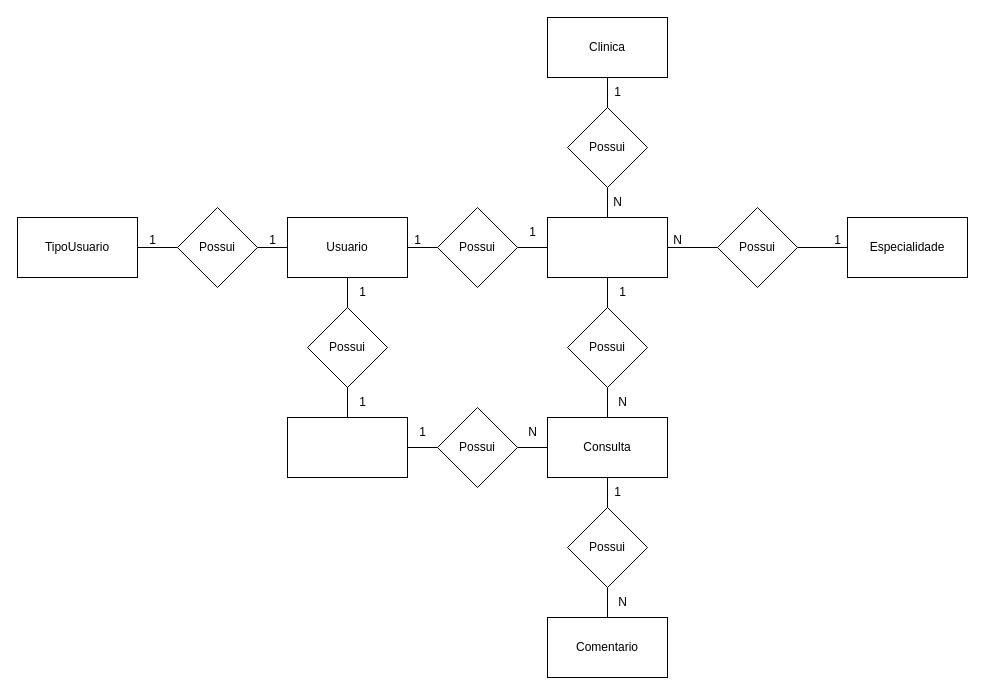
This 985x695 diagram has some shape labels left out. Each missing label, with the box of its shape:
Medico: (546, 216, 668, 278)
Paciente: (286, 416, 408, 478)
